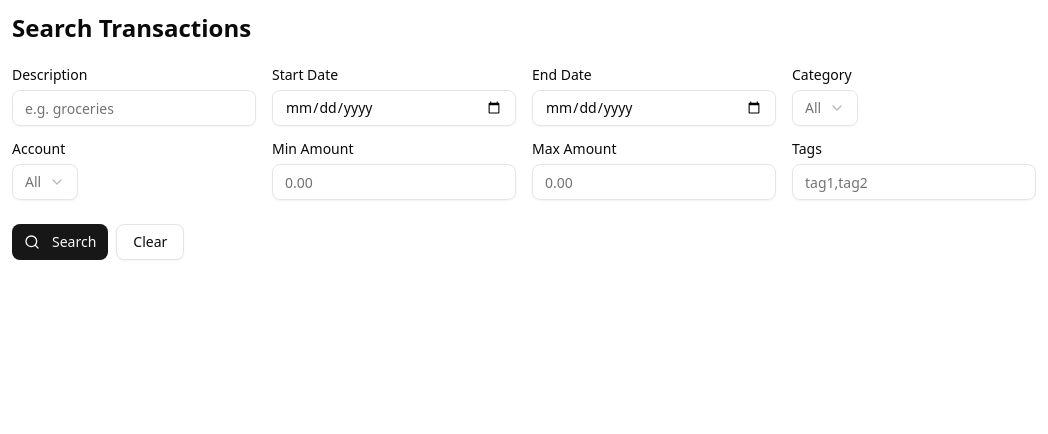
it: SearchPage › displays search results after clicking Search
Type "groceries" into the field labelled "Description". click: {"x": 134, "y": 108}
box: left=12, top=90, right=256, bottom=126
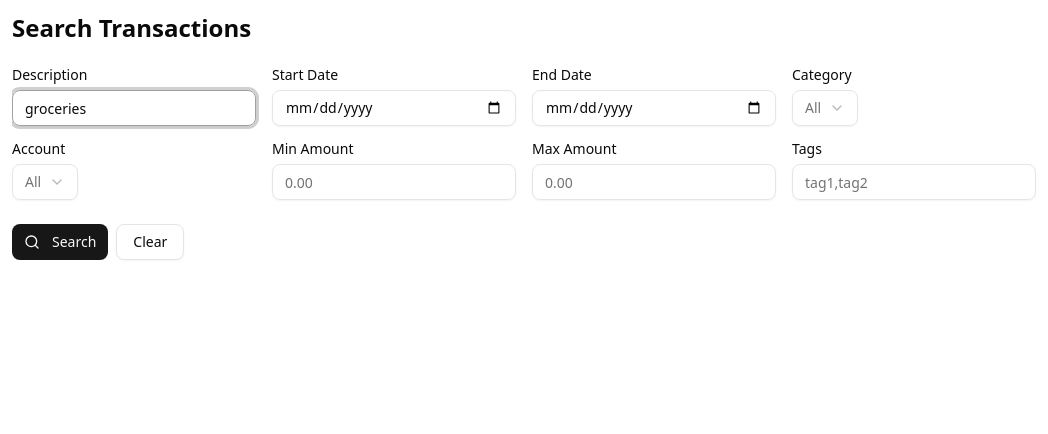
Click the button "Search". click: {"x": 60, "y": 242}
box: left=12, top=224, right=108, bottom=260
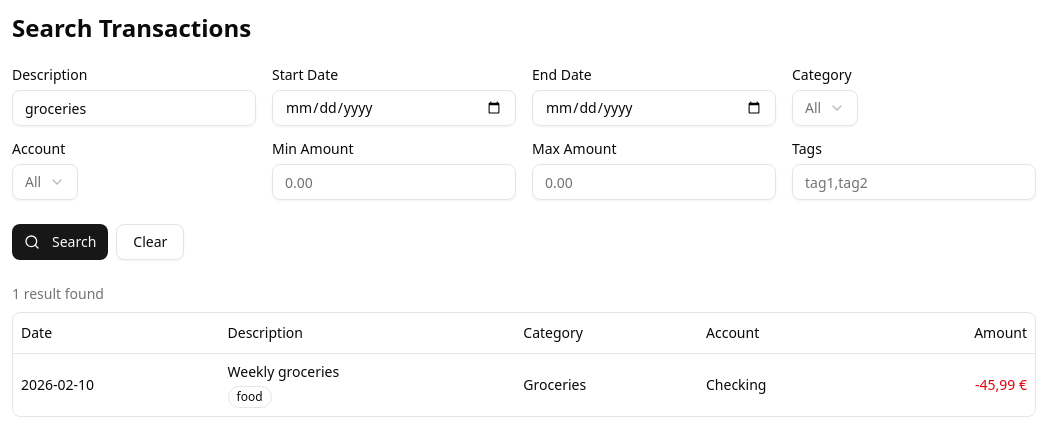
expect the text "Weekly groceries" is shown: met, box left=228, top=362, right=339, bottom=380
expect the text "1 result found" is shown: met, box left=12, top=284, right=104, bottom=303
expect the text "food" is shown: met, box left=228, top=386, right=272, bottom=408
